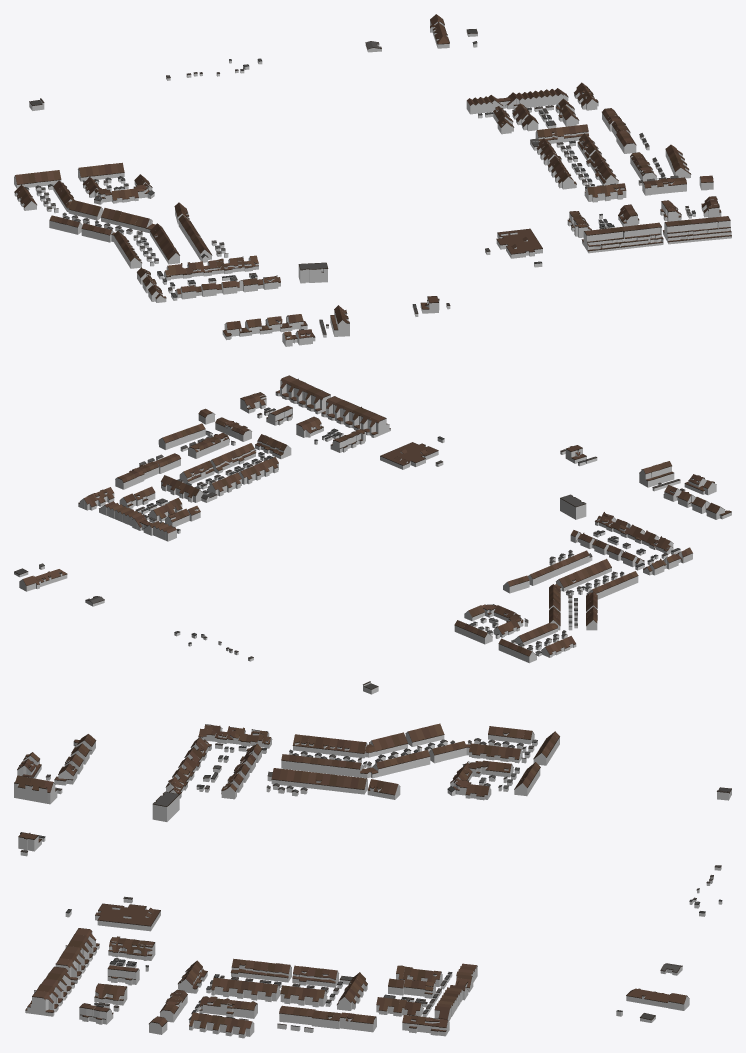
The model's file is verte.glb.
3 views of the same model, one above another, from view 1: azimuth 30°, elevation 25°; view 2: azimuth 150°, elevation 25°; view 3: azimuth 270°, elevation 25° (orthographic). The views are drawn at different scales.
Visible parts, largest first — view 1: dak, gevel_rij70, rand, gevel_schuur; view 2: dak, gevel_rij70, rand, gevel_schuur; view 3: dak, gevel_rij70, rand, gevel_schuur.
Part boxes in pixels (x1,y1,x2,y2): dak: (14,14,731,339); gevel_rij70: (14,20,731,346); rand: (14,14,731,340); gevel_schuur: (27,43,695,337); dak: (15,375,730,689); gevel_rij70: (14,379,731,694); rand: (14,375,731,689); gevel_schuur: (39,409,685,661); dak: (15,723,730,1033); gevel_rij70: (14,724,731,1038); rand: (14,724,731,1034); gevel_schuur: (20,740,722,1032).
Bounding box in the file's own units: 501 × 15.54 × 498.
